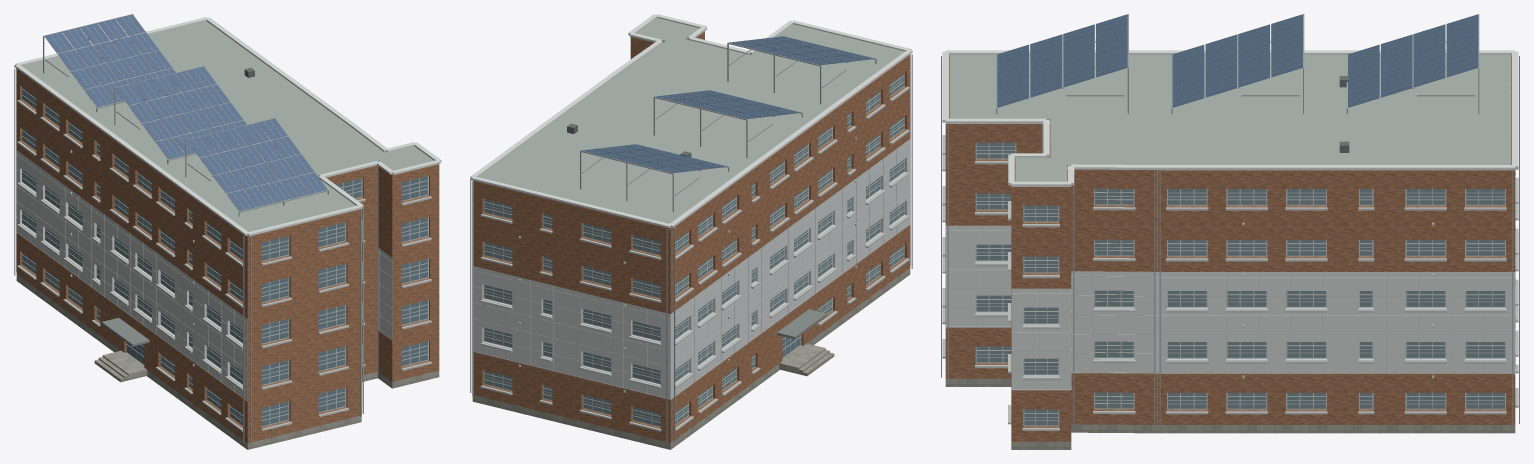
3 renders of one model, left to right at view 1: azimuth 30°, elevation 25°; view 2: azimuth 150°, elevation 25°; view 3: azimuth 270°, elevation 25°, orthographic. The views are drawn at different scales.
Parts seen in each view (by area): view 1: north-wing__brick, north-wing__roof, north-wing__pv, north-wing__panel, north-wing__glass, north-wing__frame, north-wing__sideglass, north-wing__cap, north-wing__sill, north-wing__steel, north-wing__stone, north-wing__joint (+4 smaller); view 2: north-wing__brick, north-wing__roof, north-wing__panel, north-wing__sideglass, north-wing__frame, north-wing__cap, north-wing__pv, north-wing__sill, north-wing__steel, north-wing__joint, north-wing__stone, north-wing__entrance (+2 smaller); view 3: north-wing__brick, north-wing__panel, north-wing__roof, north-wing__sideglass, north-wing__pv, north-wing__frame, north-wing__sill, north-wing__cap, north-wing__stone, north-wing__steel, north-wing__joint.
Part boxes in pixels (x1=…): north-wing__brick: x1=16, y1=69, x2=439, y2=443; north-wing__roof: x1=22, y1=21, x2=433, y2=231; north-wing__pv: x1=44, y1=14, x2=327, y2=211; north-wing__panel: x1=16, y1=150, x2=392, y2=401; north-wing__glass: x1=127, y1=176, x2=427, y2=425; north-wing__frame: x1=22, y1=87, x2=428, y2=426; north-wing__sideglass: x1=22, y1=87, x2=242, y2=425; north-wing__cap: x1=14, y1=17, x2=441, y2=236; north-wing__sill: x1=17, y1=100, x2=431, y2=431; north-wing__steel: x1=14, y1=14, x2=378, y2=443; north-wing__stone: x1=16, y1=274, x2=439, y2=449; north-wing__joint: x1=16, y1=150, x2=439, y2=400; north-wing__brick: x1=472, y1=31, x2=910, y2=442; north-wing__roof: x1=478, y1=18, x2=904, y2=223; north-wing__panel: x1=473, y1=139, x2=910, y2=399; north-wing__sideglass: x1=484, y1=74, x2=904, y2=426; north-wing__frame: x1=483, y1=73, x2=904, y2=427; north-wing__cap: x1=470, y1=14, x2=912, y2=228; north-wing__pv: x1=582, y1=36, x2=874, y2=172; north-wing__sill: x1=480, y1=87, x2=909, y2=431; north-wing__steel: x1=470, y1=42, x2=912, y2=443; north-wing__joint: x1=474, y1=137, x2=910, y2=399; north-wing__stone: x1=472, y1=268, x2=910, y2=449; north-wing__entrance: x1=777, y1=309, x2=826, y2=339; north-wing__brick: x1=945, y1=55, x2=1515, y2=441; north-wing__panel: x1=946, y1=225, x2=1515, y2=390; north-wing__roof: x1=950, y1=54, x2=1510, y2=181; north-wing__sideglass: x1=976, y1=142, x2=1504, y2=425; north-wing__pv: x1=997, y1=14, x2=1478, y2=107; north-wing__frame: x1=975, y1=142, x2=1505, y2=426; north-wing__sill: x1=942, y1=135, x2=1518, y2=430; north-wing__cap: x1=942, y1=24, x2=1518, y2=186; north-wing__stone: x1=945, y1=373, x2=1515, y2=449; north-wing__steel: x1=941, y1=14, x2=1519, y2=426; north-wing__joint: x1=946, y1=170, x2=1515, y2=390.
Bounding box in the file's own units: 24.15 × 23.6 × 39.63.
Materials: 16 (2 with a texture image).
